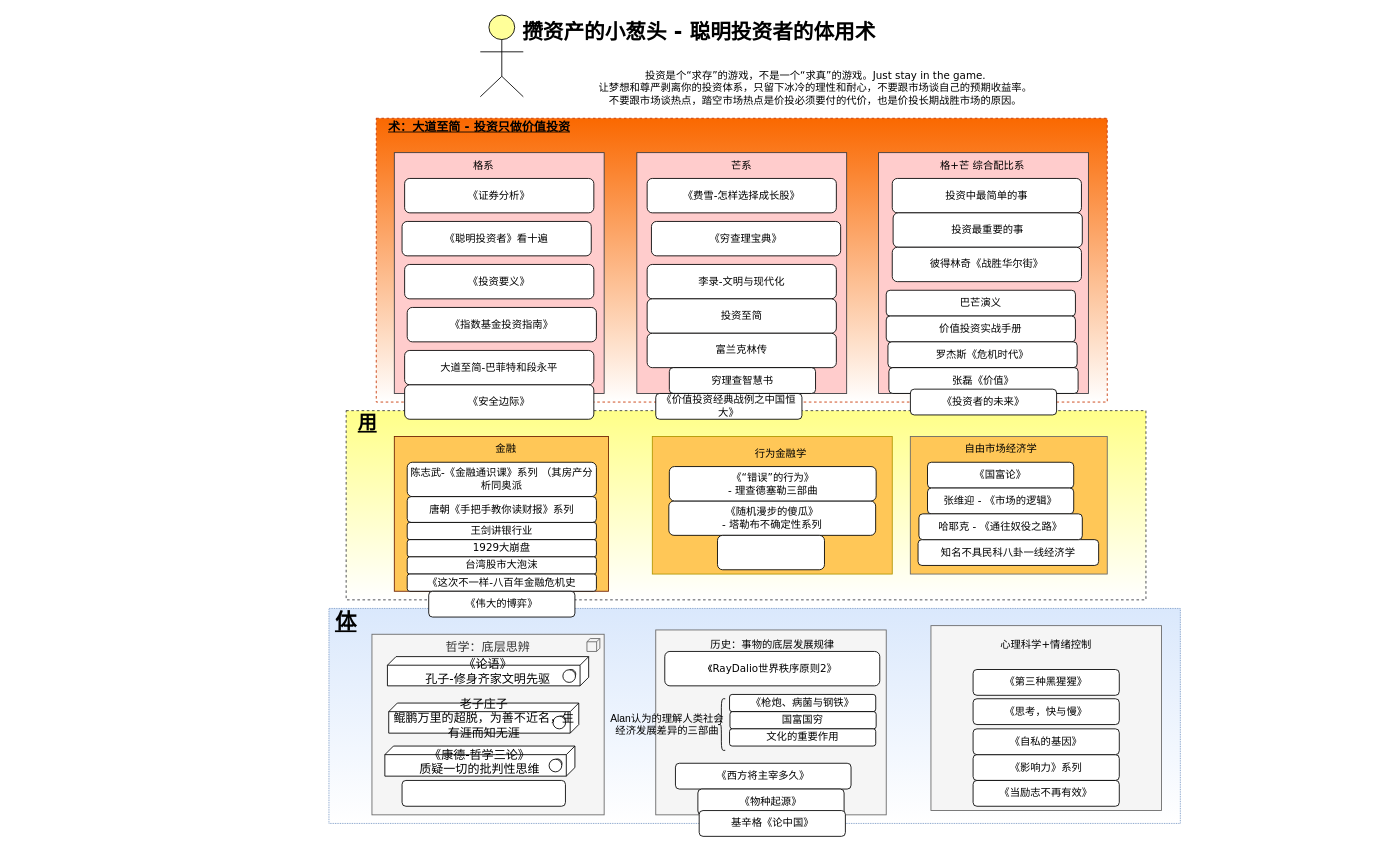
The diagram is 1397 pixels wide and 851 high, and some of its shapes have lost their labels. Here are the shapes that lost their labels. From the top down, the box of each, then its label:
(717, 534, 824, 570): 《美第奇效应》
(401, 780, 565, 806): 《洞见-为什么佛学是真的》
